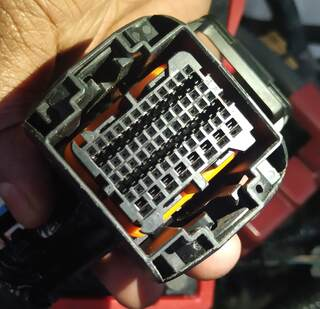connector: (22, 15, 288, 284)
